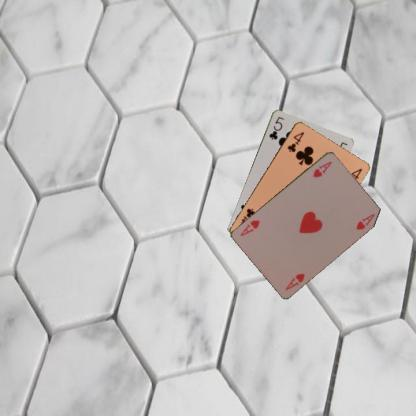4c: (284, 129, 306, 153)
5c: (266, 114, 285, 141)
Ah: (283, 270, 306, 291), (310, 158, 334, 178)
